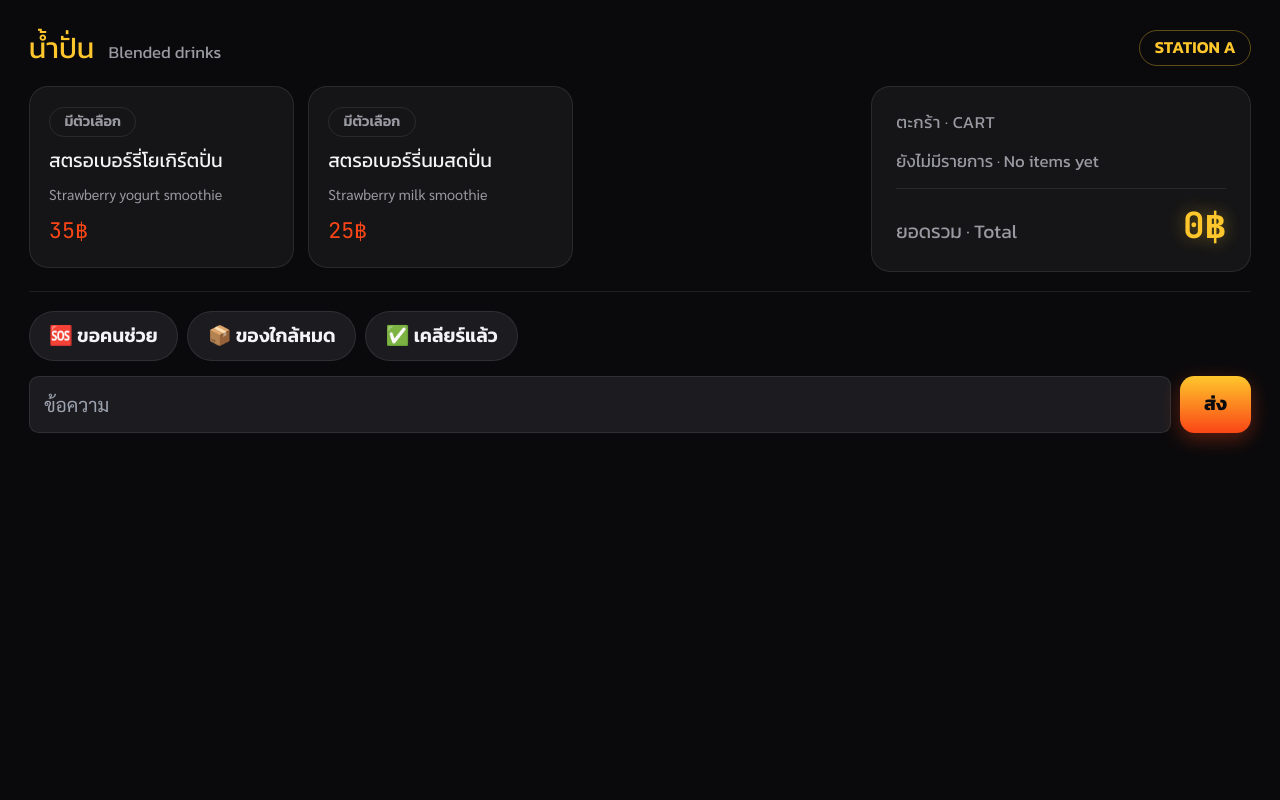
Scenario: a default drink (no option changes) adds at base price with no recorded options
Click the button "มีตัวเลือก สตรอเบอร์รี่นมสดปั่น Strawberry milk smoothie 25฿". click: (440, 177)
box: [308,86,573,268]
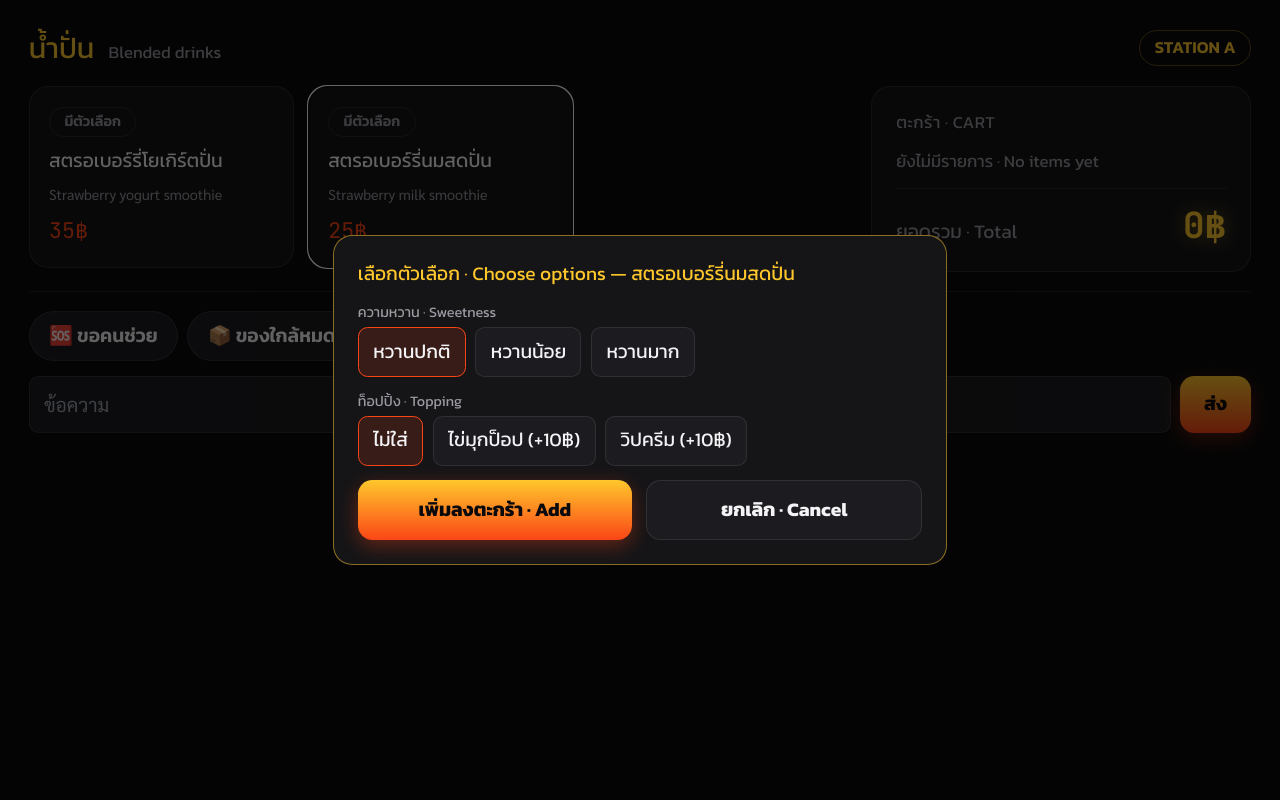
Click the button "เพิ่มลงตะกร้า · Add". click: (495, 510)
box: [358,480,632,540]
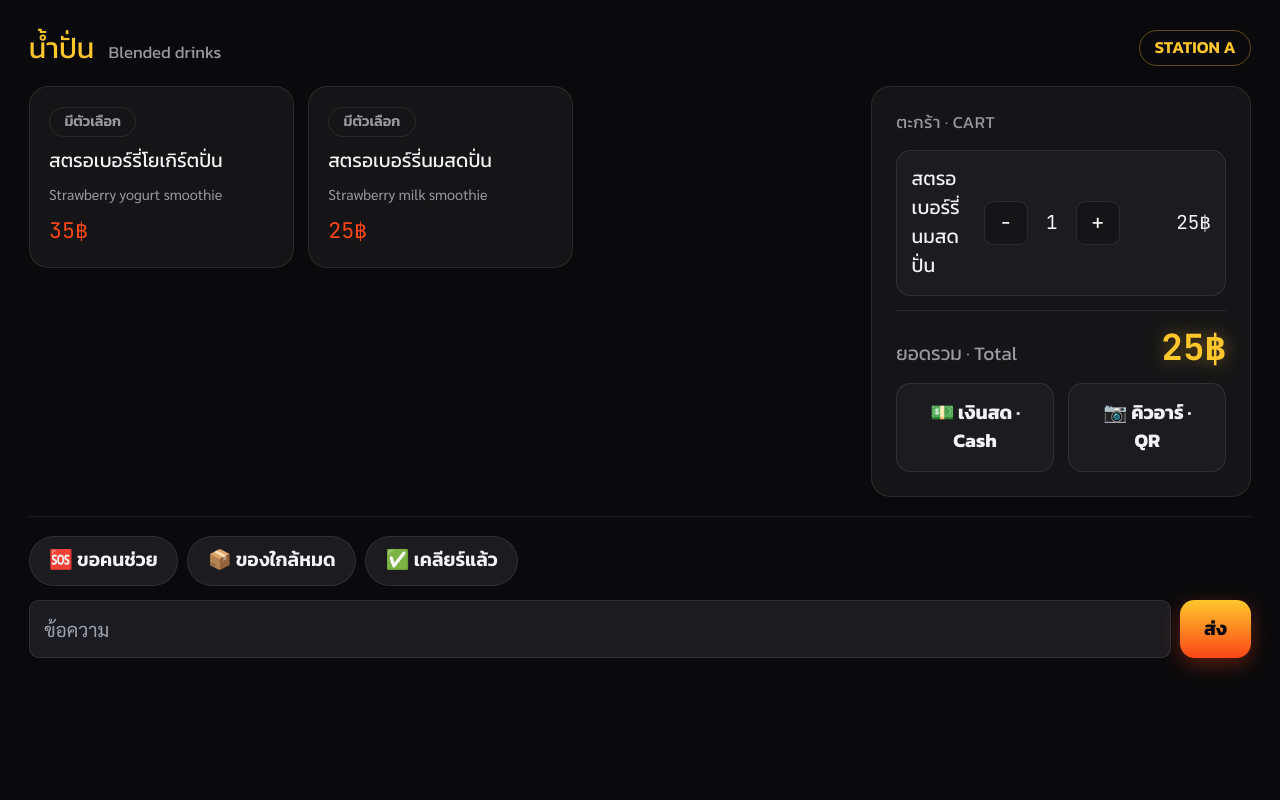
Now the text with test id "cart-total" shows "25", box [1161,322,1204,370]
